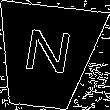N_S: (19, 29, 74, 84)
